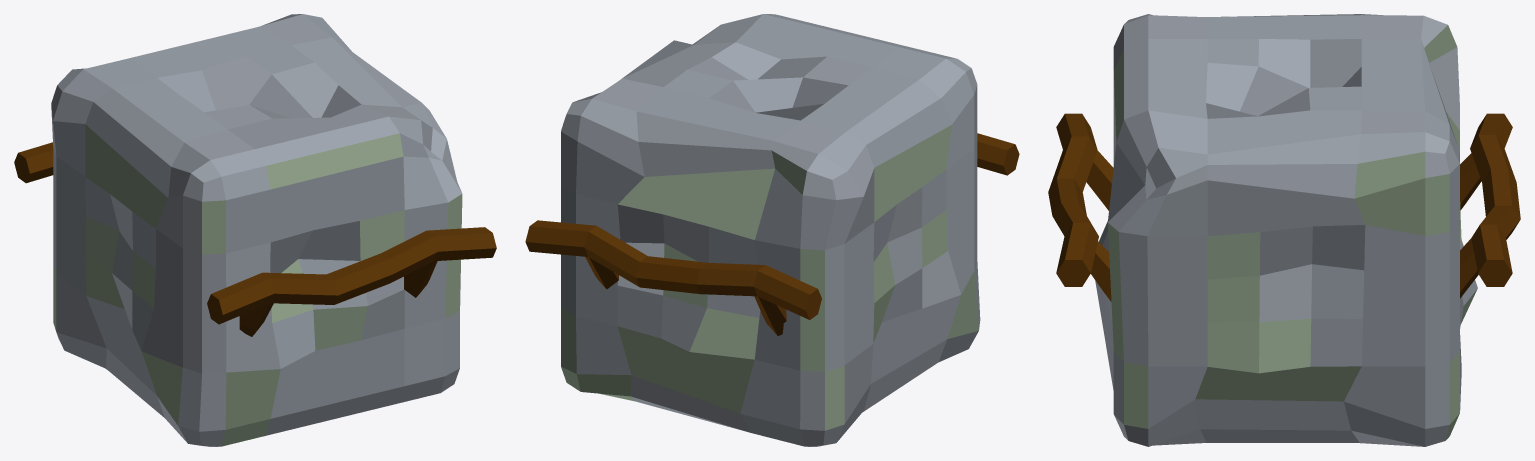
File: ilkcagkutu.fbx
3 views of the same model, side by side, from view 1: azimuth 30°, elevation 25°; view 2: azimuth 150°, elevation 25°; view 3: azimuth 270°, elevation 25° (orthographic). The views are drawn at different scales.
Parts seen in each view (by area): view 1: Cube.001; view 2: Cube.001; view 3: Cube.001.
Part boxes in pixels (x1,y1,x2,y2): Cube.001: (14,14,496,446); Cube.001: (525,14,1019,446); Cube.001: (1048,14,1520,446).
Bounding box in the file's own units: 220 × 200 × 273.
